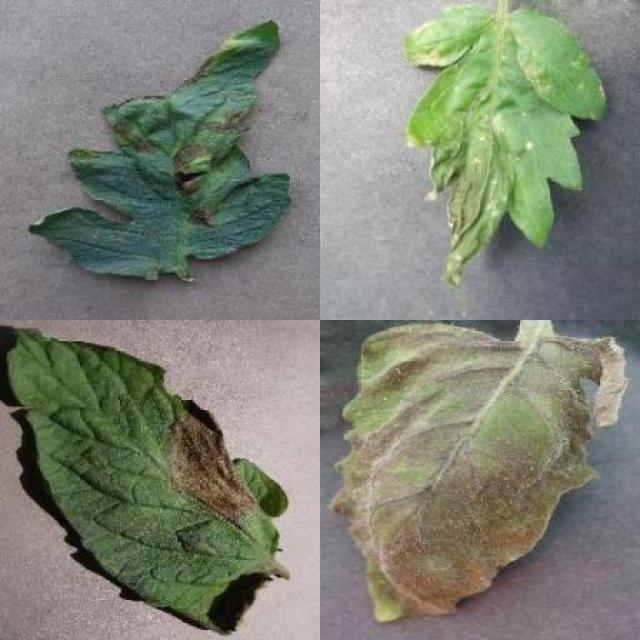Early Blight: (26, 20, 293, 283)
Late Blight: (324, 320, 630, 623), (2, 322, 291, 639), (402, 0, 608, 287)
